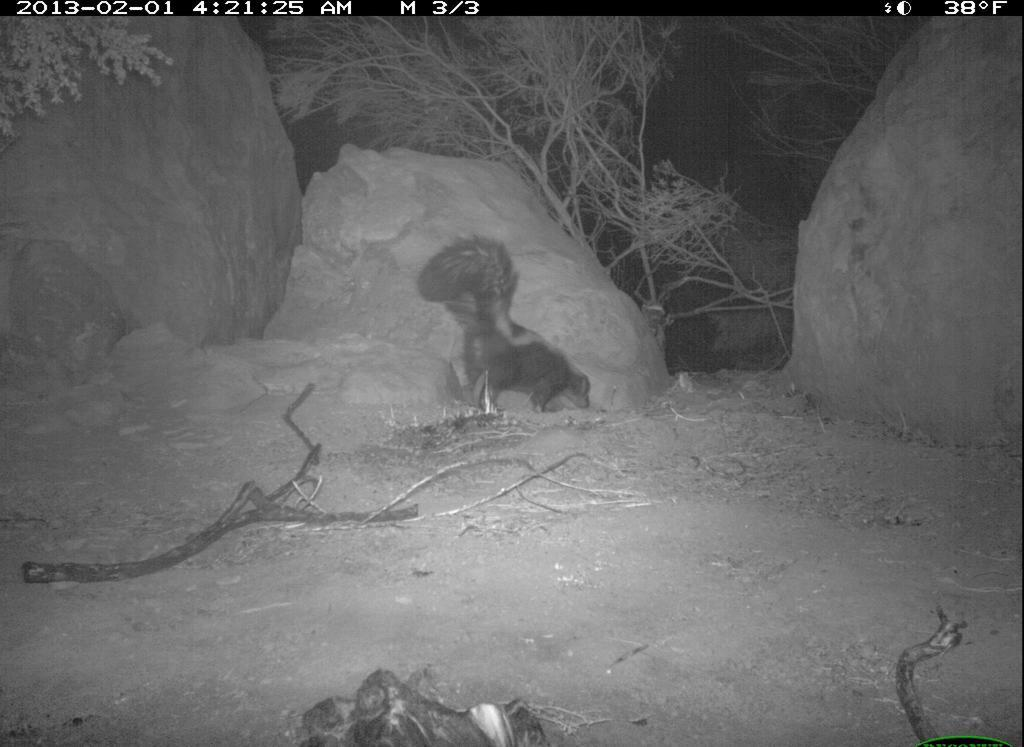skunk: (404, 233, 597, 415)
